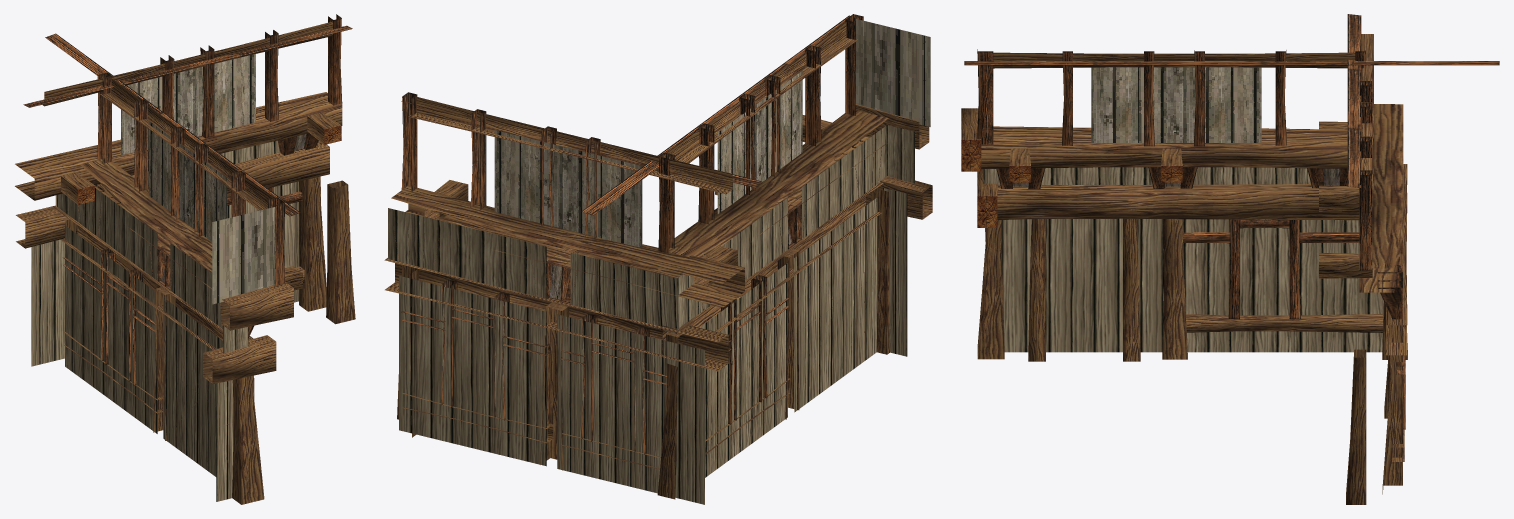
File: LAKETOWN_EXTERIOR_PS_LT_LHOUSE978__GX.fbx
3 renders of one model, left to right at view 1: azimuth 30°, elevation 25°; view 2: azimuth 150°, elevation 25°; view 3: azimuth 270°, elevation 25°, orthographic. The views are drawn at different scales.
Visible parts, largest first — view 1: LAKETOWN_EXTERIOR_PS_LT_LHOUSE978__GX; view 2: LAKETOWN_EXTERIOR_PS_LT_LHOUSE978__GX; view 3: LAKETOWN_EXTERIOR_PS_LT_LHOUSE978__GX.
Part boxes in pixels (bbox=[...]): LAKETOWN_EXTERIOR_PS_LT_LHOUSE978__GX: bbox=[15, 14, 355, 504]; LAKETOWN_EXTERIOR_PS_LT_LHOUSE978__GX: bbox=[384, 14, 932, 504]; LAKETOWN_EXTERIOR_PS_LT_LHOUSE978__GX: bbox=[961, 14, 1499, 504].
Size of the model in its own units: 60887 by 53343 by 79796.
Materials: 8 (8 with a texture image).
